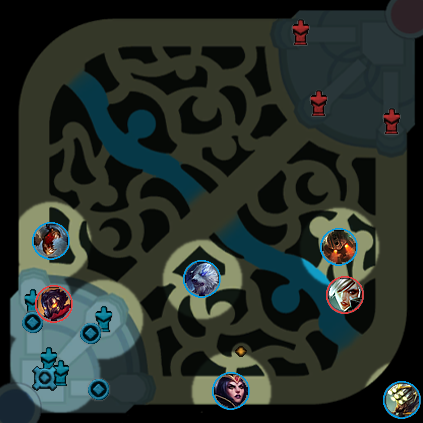Fiddlesticks: (32, 222, 70, 260)
Leblanc: (212, 372, 250, 410)
MasterYi: (383, 381, 421, 419)
Nautilus: (320, 228, 358, 266)
Riven: (326, 276, 364, 314)
Viktor: (35, 285, 73, 323)
Volibear: (183, 260, 221, 298)
